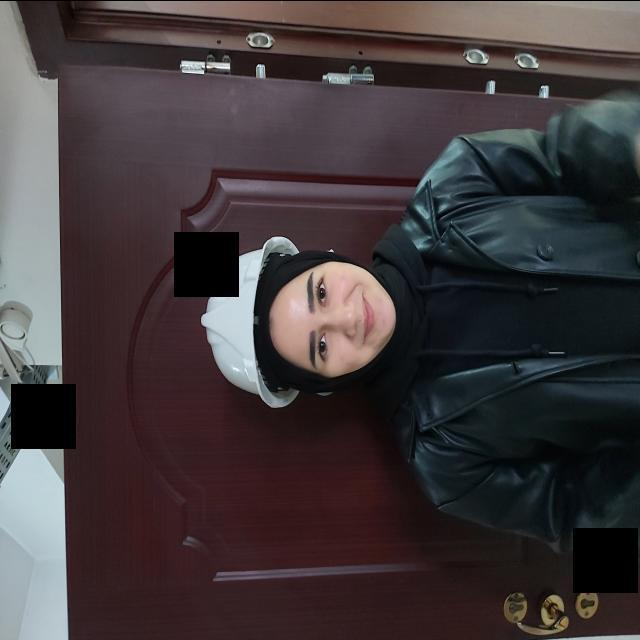white helmet: (180, 228, 300, 416)
